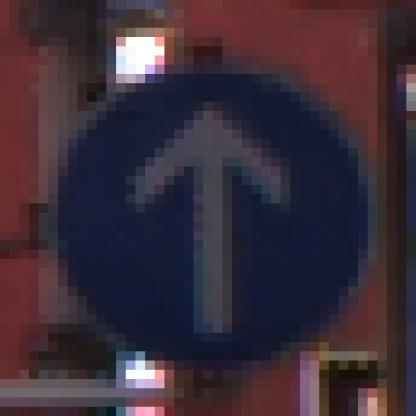AheadOnly: (49, 56, 369, 371)
